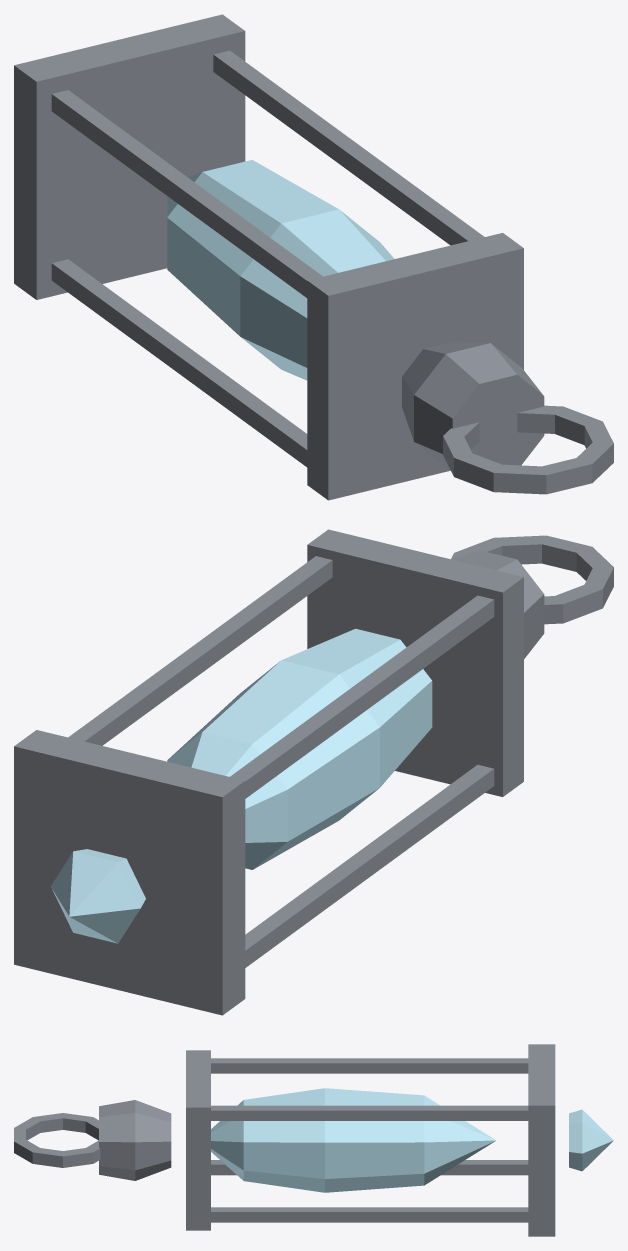
File: stormlantern.glb
The picture shows the model from 3 angles, top to bottom: view 1: azimuth 30°, elevation 25°; view 2: azimuth 150°, elevation 25°; view 3: azimuth 270°, elevation 25°; orthographic projection. The views are drawn at different scales.
Parts seen in each view (by area): view 1: stormlantern; view 2: stormlantern; view 3: stormlantern.
Part boxes in pixels (box(x1,y1,x2,y2)): stormlantern: box(14, 14, 613, 500); stormlantern: box(14, 529, 613, 1015); stormlantern: box(14, 1044, 613, 1236).
Bounding box in the file's own units: 0.16 × 0.16 × 0.6643.
